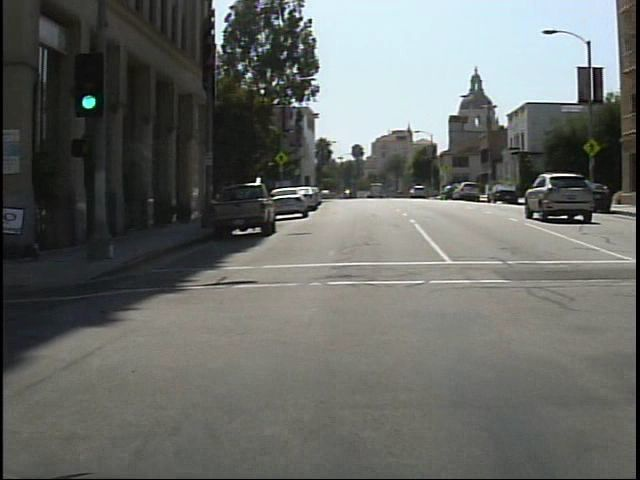person: (3, 162, 14, 277)
